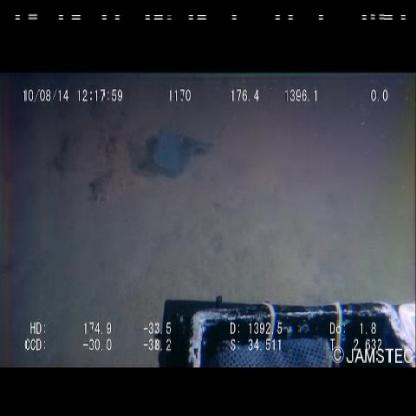Rov: (150, 294, 416, 372)
Rác: (141, 119, 221, 187)
